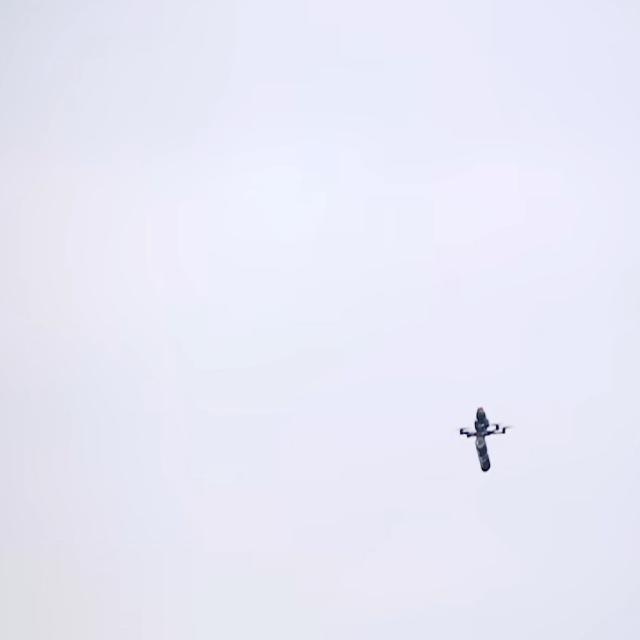drone: (452, 404, 514, 474)
